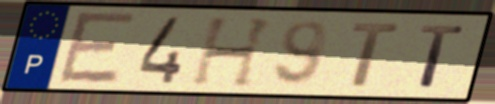4: (136, 15, 185, 86)
9: (271, 19, 331, 88)
E: (55, 9, 140, 87)
H: (187, 16, 279, 90)
T: (349, 21, 403, 89), (417, 22, 467, 90)
